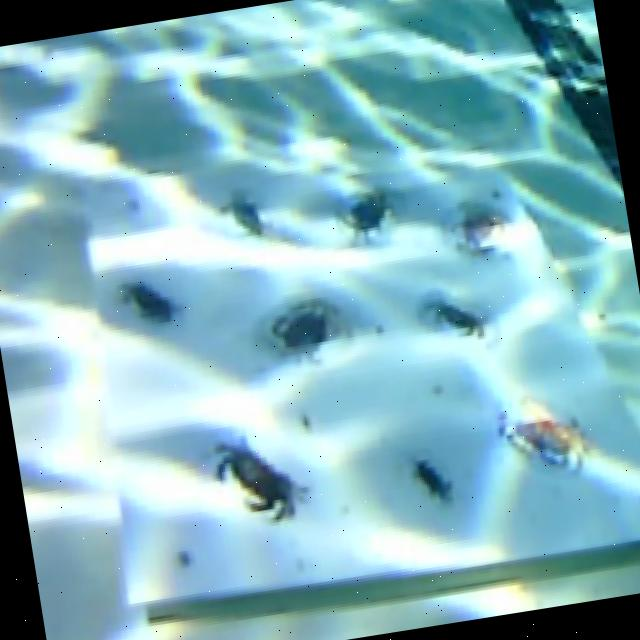green_crab: (341, 188, 390, 240), (223, 192, 262, 231), (413, 462, 450, 495)
jonah_crab: (499, 399, 589, 469), (268, 297, 344, 353), (453, 206, 510, 250)
rock_crab: (215, 444, 307, 518), (119, 281, 179, 321), (428, 302, 483, 333)
